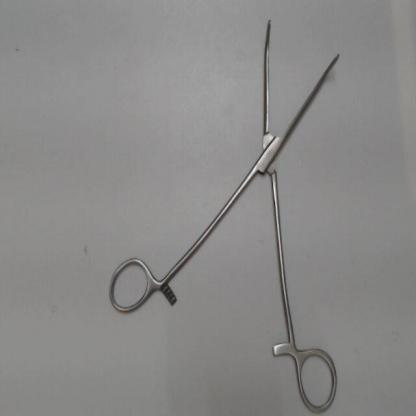Lahey Forceps: (103, 14, 348, 415)
